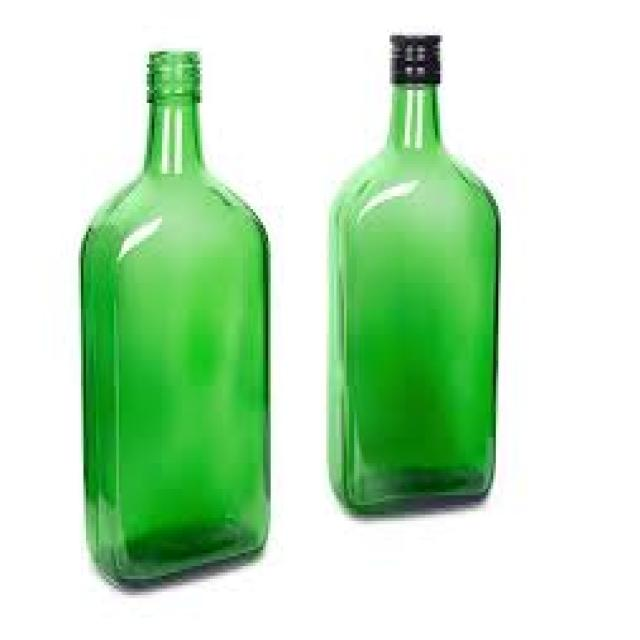glass: (79, 49, 268, 586), (331, 81, 496, 512)
metal: (387, 32, 438, 77)
